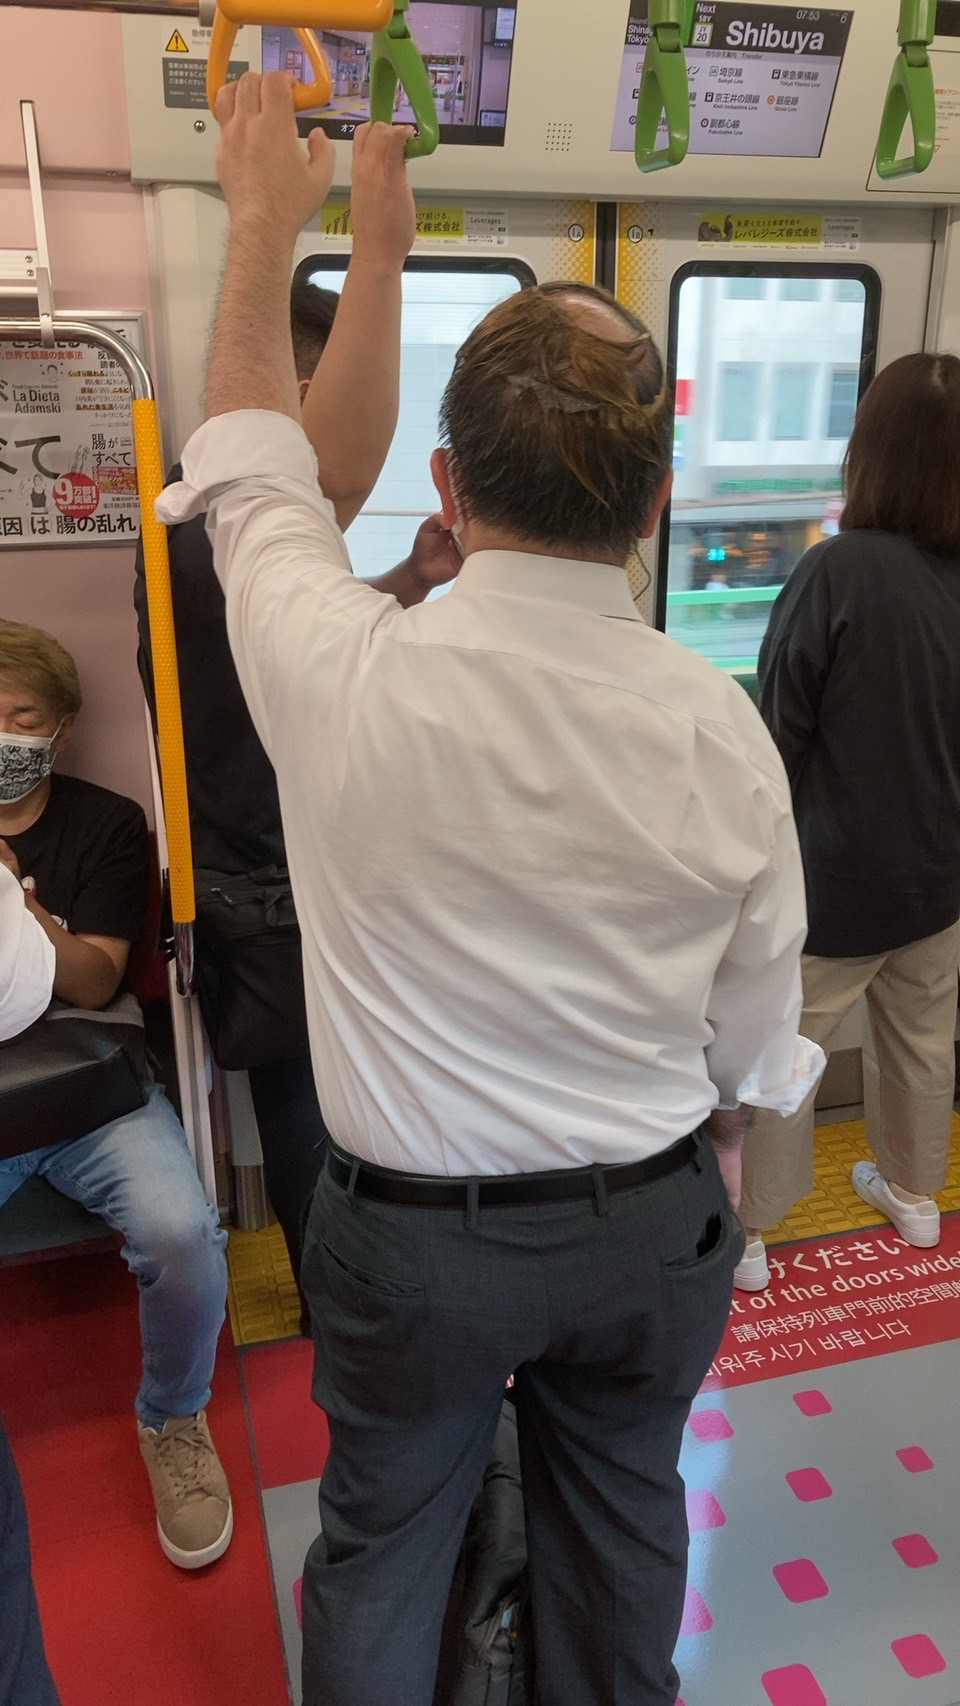female: (760, 342, 960, 1294)
male: (189, 62, 833, 1706), (1, 610, 241, 1576)
